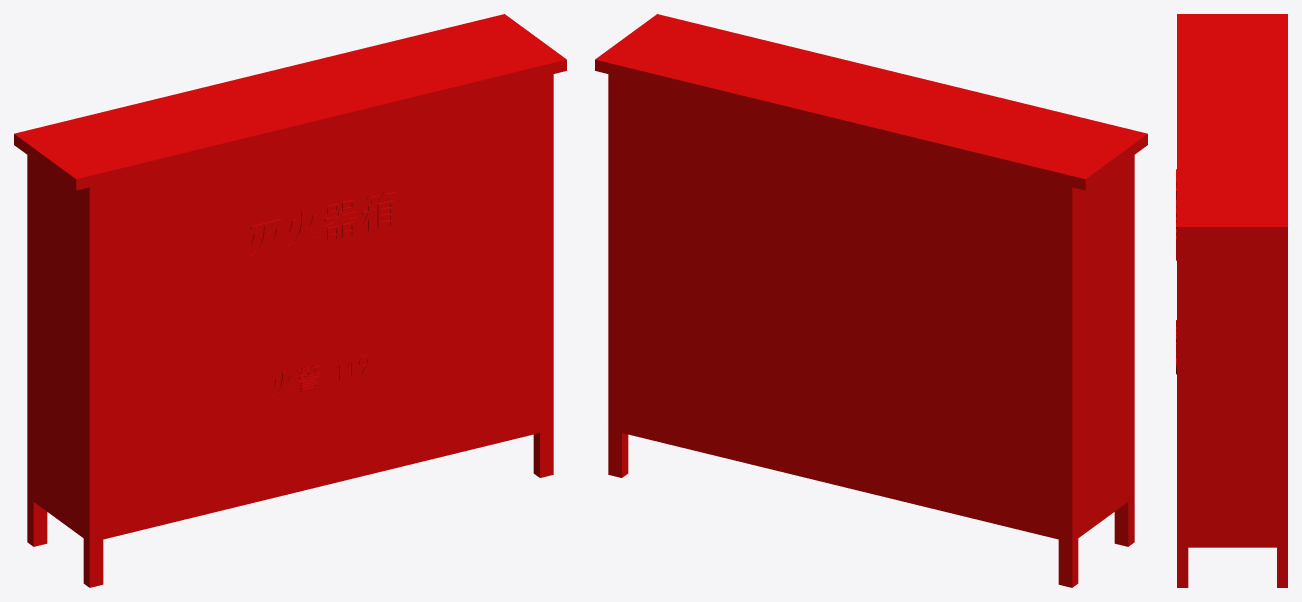
File: MieHuoQiXiang.gltf
3 views of the same model, side by side, from view 1: azimuth 30°, elevation 25°; view 2: azimuth 150°, elevation 25°; view 3: azimuth 270°, elevation 25° (orthographic). The views are drawn at different scales.
Bounding box in the file's own units: 1820 × 1460 × 404.
